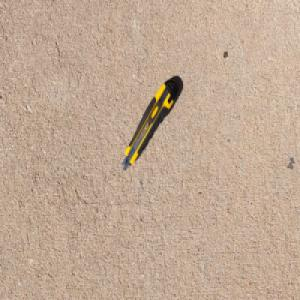Cutter: (121, 78, 179, 172)
